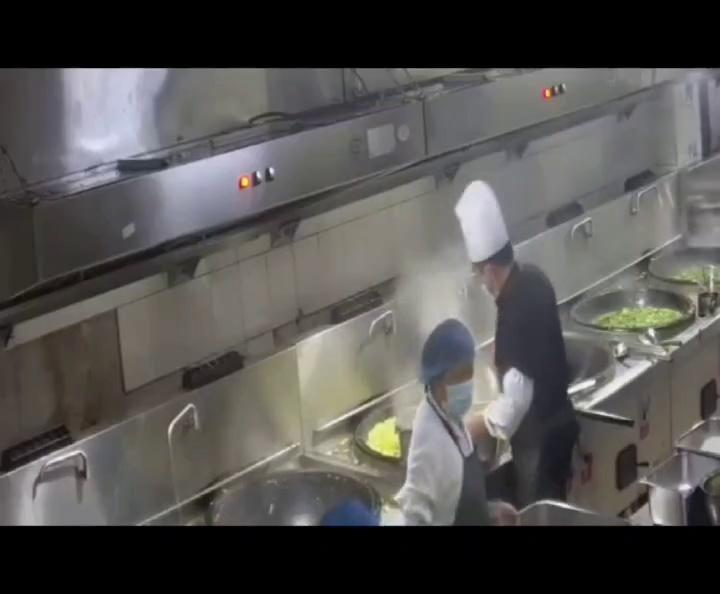gloves: (417, 319, 483, 378)
mask: (437, 382, 483, 421)
